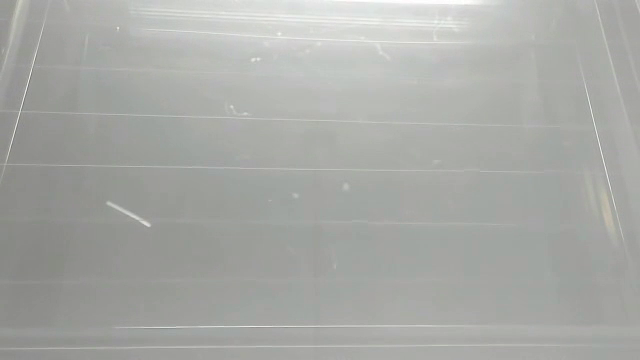alpha: (99, 198, 156, 231)
